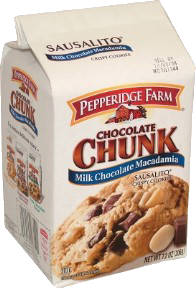grozi_70: (0, 0, 196, 288)
